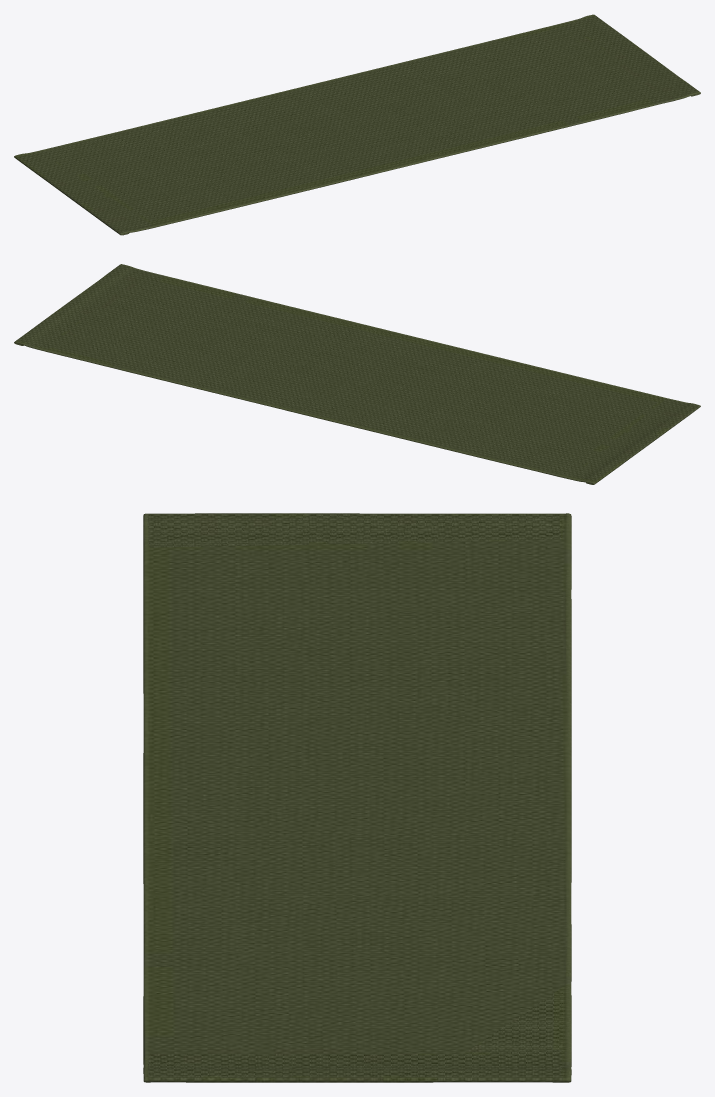
File: 03 - MORUM Rug flatwoven, inoutdoor - dark green 80x250 cm.glb
The picture shows the model from 3 angles, top to bottom: view 1: azimuth 30°, elevation 25°; view 2: azimuth 150°, elevation 25°; view 3: azimuth 270°, elevation 25°; orthographic projection. The views are drawn at different scales.
Parts seen in each view (by area): view 1: ASY_ART_20624177_S01_NV01; view 2: ASY_ART_20624177_S01_NV01; view 3: ASY_ART_20624177_S01_NV01.
Part boxes in pixels (bbox=[...]): ASY_ART_20624177_S01_NV01: bbox=[14, 14, 700, 235]; ASY_ART_20624177_S01_NV01: bbox=[14, 264, 700, 484]; ASY_ART_20624177_S01_NV01: bbox=[143, 513, 571, 1082].
Bounding box in the file's own units: 2.5 × 0.0119 × 0.7979.
Materials: 1 (1 with a texture image).
